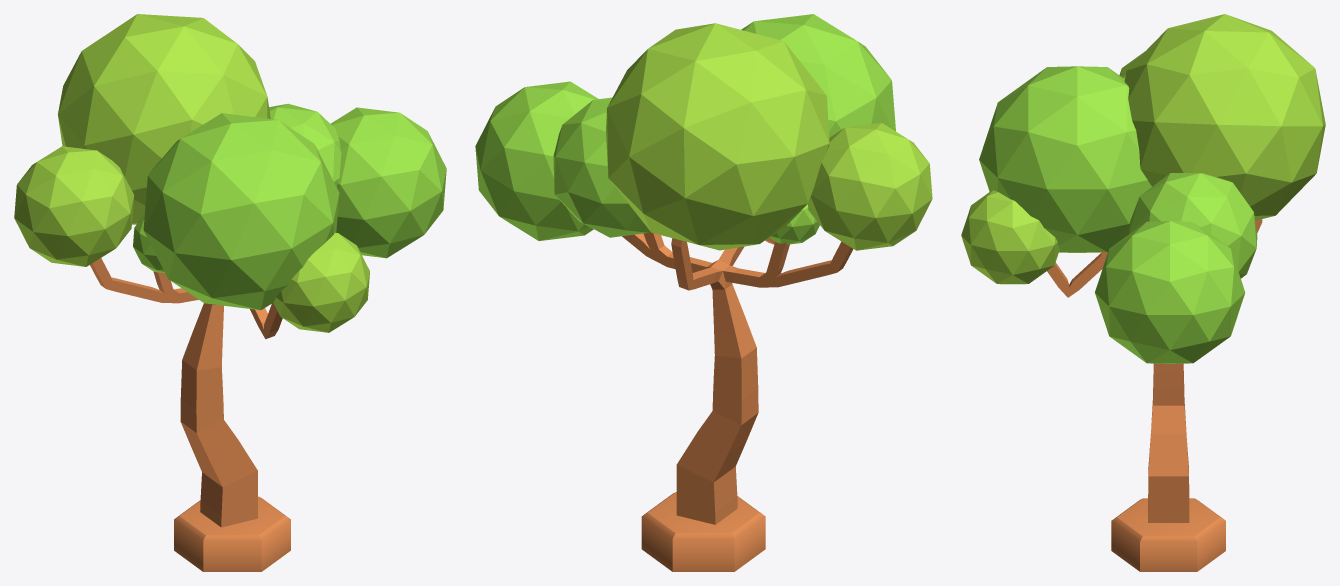
File: TREE.fbx
3 views of the same model, side by side, from view 1: azimuth 30°, elevation 25°; view 2: azimuth 150°, elevation 25°; view 3: azimuth 270°, elevation 25° (orthographic). The views are drawn at different scales.
Parts seen in each view (by area): view 1: Icosphere.003, Icosphere.005, Icosphere.002, Vert.001, Icosphere, Icosphere.004, Cylinder, Icosphere.001, Icosphere.006; view 2: Icosphere.005, Vert.001, Icosphere, Icosphere.002, Icosphere.003, Icosphere.001, Cylinder, Icosphere.006; view 3: Icosphere.005, Icosphere.003, Icosphere.002, Vert.001, Icosphere.001, Icosphere.004, Cylinder.
Boxes of the visible parts, x1,y1,x2,y2 form: Icosphere.003: [143, 113, 339, 310]; Icosphere.005: [58, 14, 270, 224]; Icosphere.002: [330, 107, 446, 258]; Vert.001: [90, 258, 282, 527]; Icosphere: [14, 146, 134, 266]; Icosphere.004: [273, 232, 369, 332]; Cylinder: [174, 496, 290, 571]; Icosphere.001: [269, 103, 341, 187]; Icosphere.006: [133, 216, 164, 273]; Icosphere.005: [606, 23, 829, 250]; Vert.001: [622, 232, 853, 524]; Icosphere: [808, 123, 932, 250]; Icosphere.002: [475, 81, 598, 240]; Icosphere.003: [741, 14, 895, 137]; Icosphere.001: [553, 97, 650, 237]; Cylinder: [641, 492, 765, 571]; Icosphere.006: [769, 204, 819, 244]; Icosphere.005: [1124, 14, 1325, 220]; Icosphere.003: [979, 66, 1151, 252]; Icosphere.002: [1095, 221, 1245, 363]; Vert.001: [1047, 219, 1262, 522]; Icosphere.001: [1129, 173, 1257, 278]; Icosphere.004: [961, 190, 1059, 284]; Cylinder: [1111, 498, 1225, 571].
Size of the model in its own units: 810 by 976 by 637.
